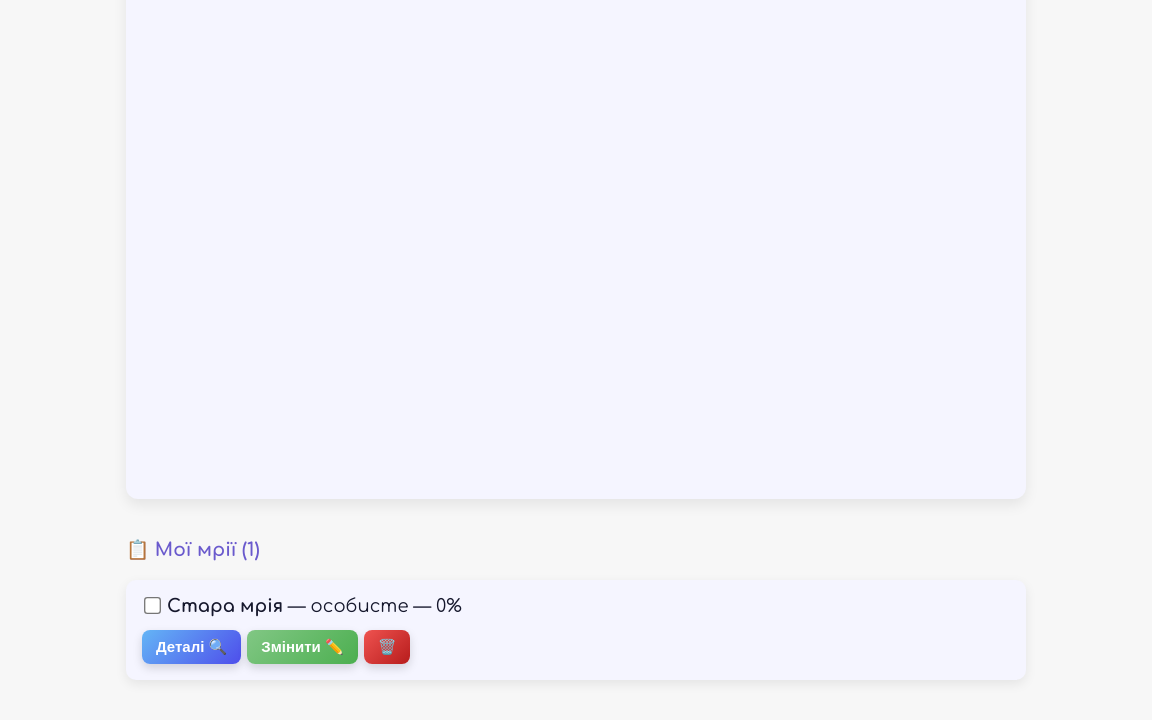
редагує мрію і зберігає зміни
The image size is (1152, 720).
(page scrolled)
Expected: the text "Стара мрія" is shown, [167,596,283,616]
Step 1. Click the button "Змінити ✏️" → (302, 647), box [247,630,358,664]
(page scrolled)
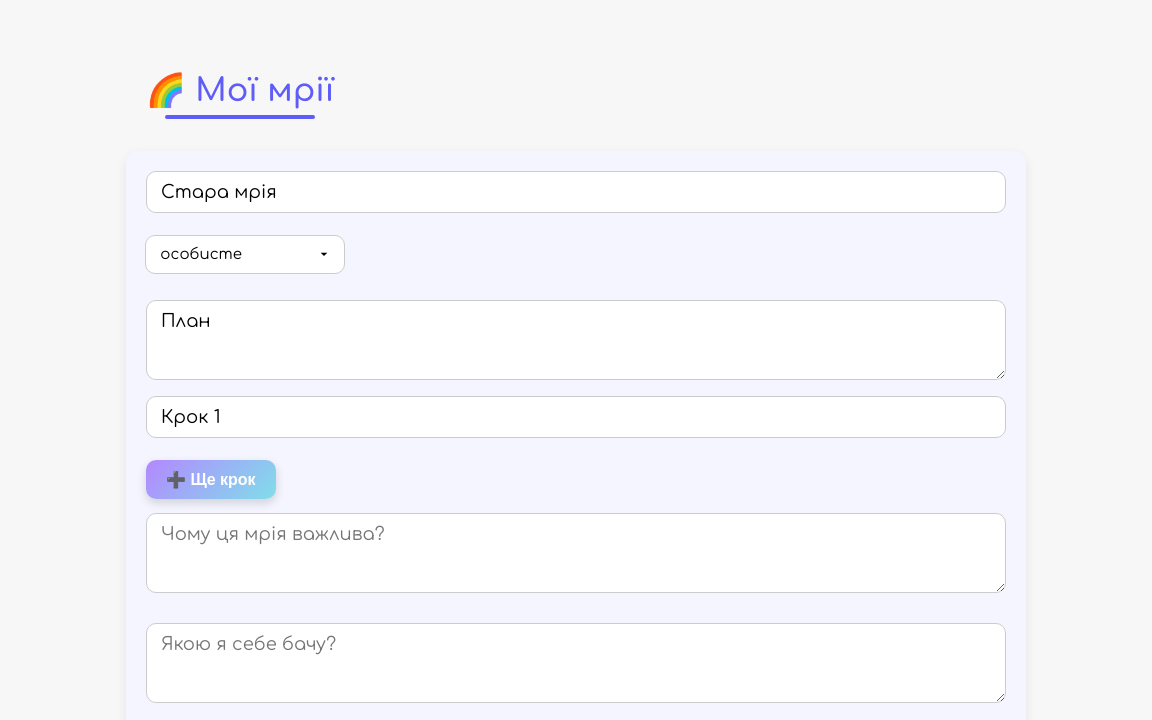
Step 2. Replace the text in the 1st field showing "Стара мрія" with "Оновлена мрія" → (576, 192), box [146,170,1006,212]
(page scrolled)
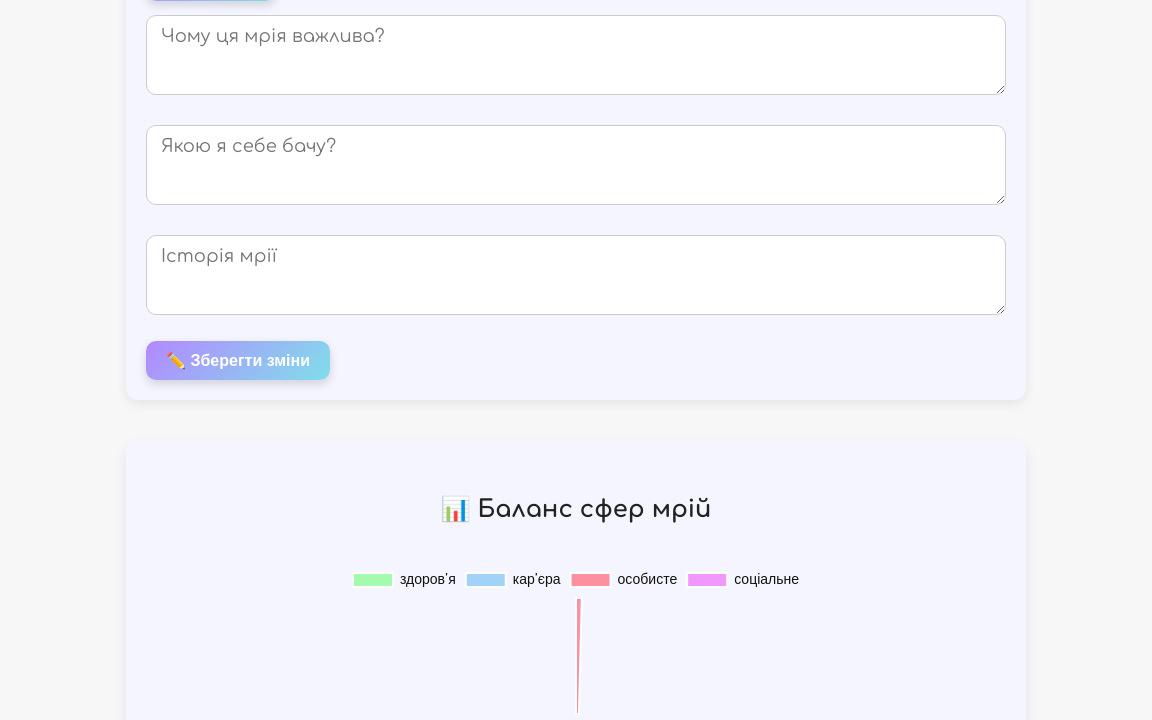
Step 3. Click the button "✏️ Зберегти зміни" → (238, 360), box [146,340,330,380]
(page scrolled)
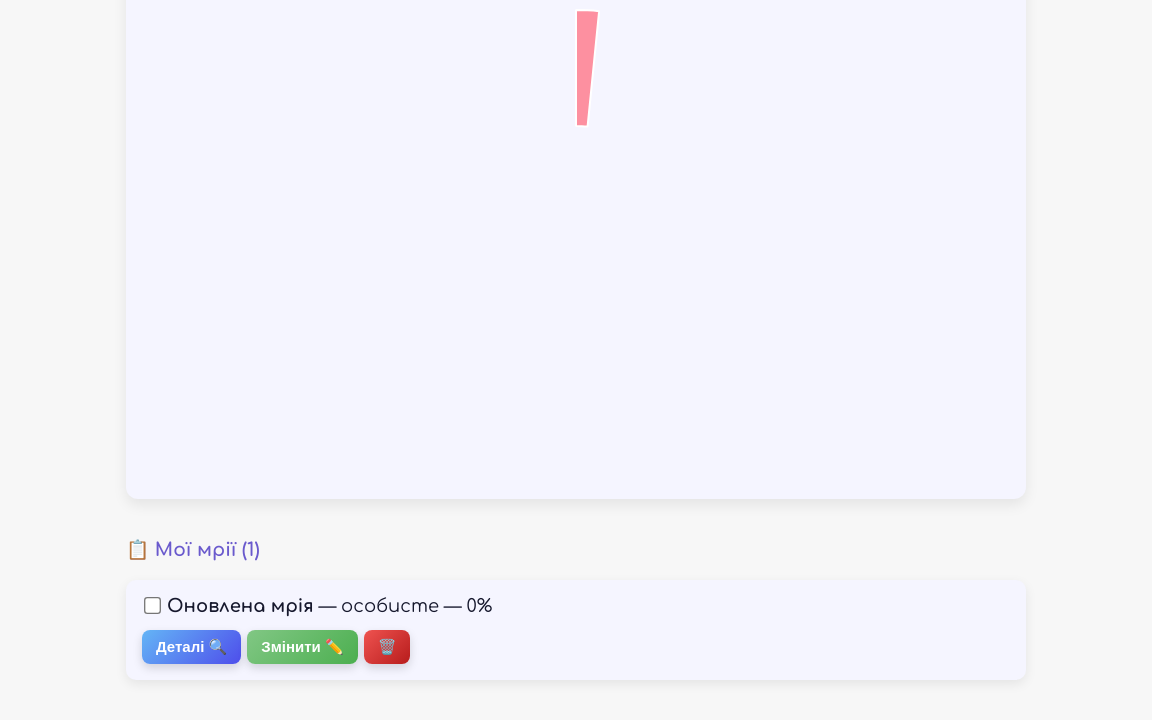
Result: the text "Оновлена мрія" is shown at [167,596,314,616]
